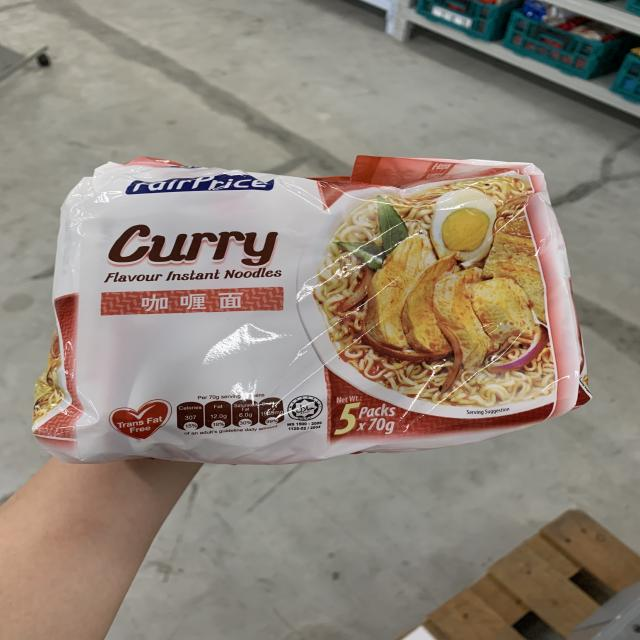object_name: (79, 174, 562, 435)
